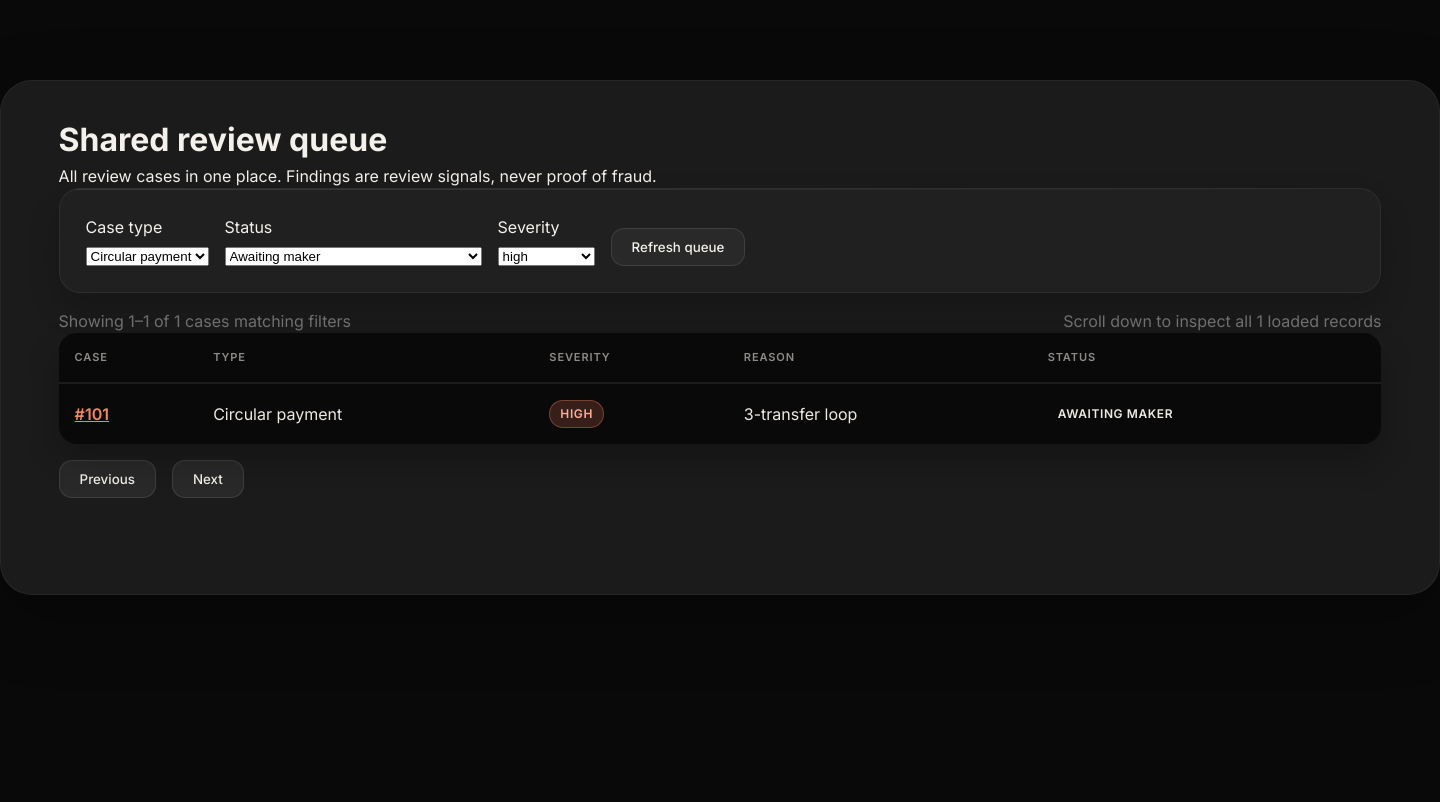
Test case: unified review navigation › does not offer checker actions when permissions block the same maker
Click the link "#101". click: [80, 414]
box: [75,404,109,424]
(page scrolled)
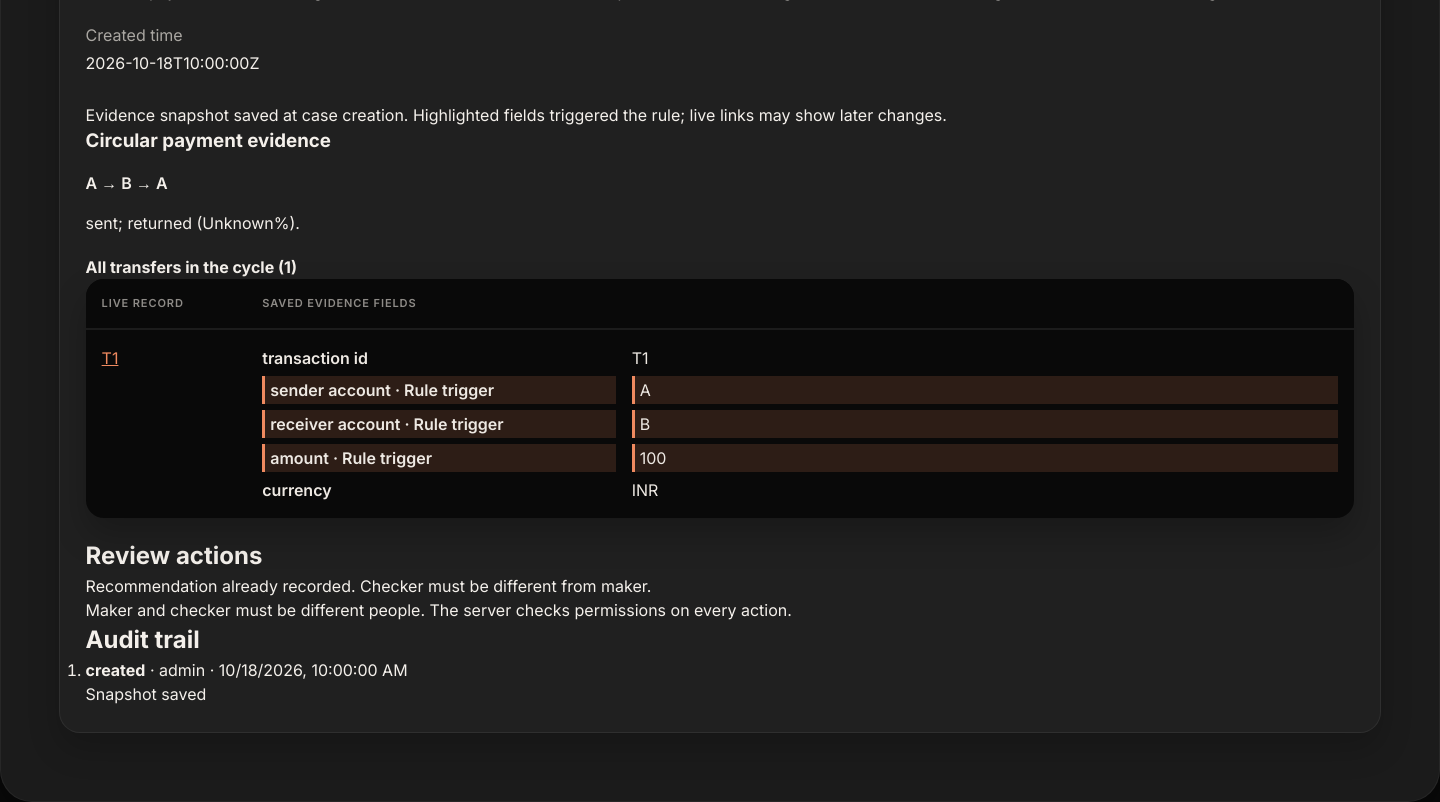
expect the text "Checker must be different from maker" is shown: met, box [360,576,651,596]
